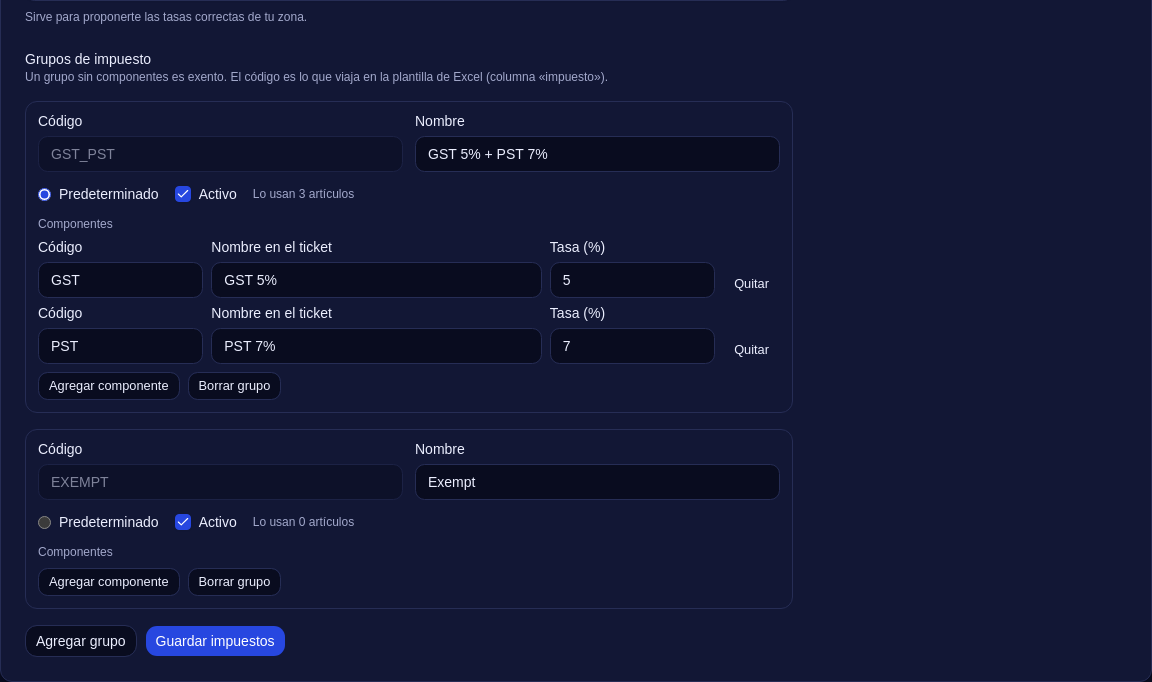
Test: «Impuestos» en Mi perfil (F4-TAX-14) › marcar otro grupo como predeterminado y guardar manda un solo isDefault
This screenshot has width=1152, height=682.
(page scrolled)
Expected: the number of elements with test id "tax-group" is 2, [25, 101, 793, 413]; [25, 429, 793, 609]
Click the radio button labelled "Predeterminado" in the row of "Lo usan 0 artículos": x=44, y=522 [38, 516, 51, 528]
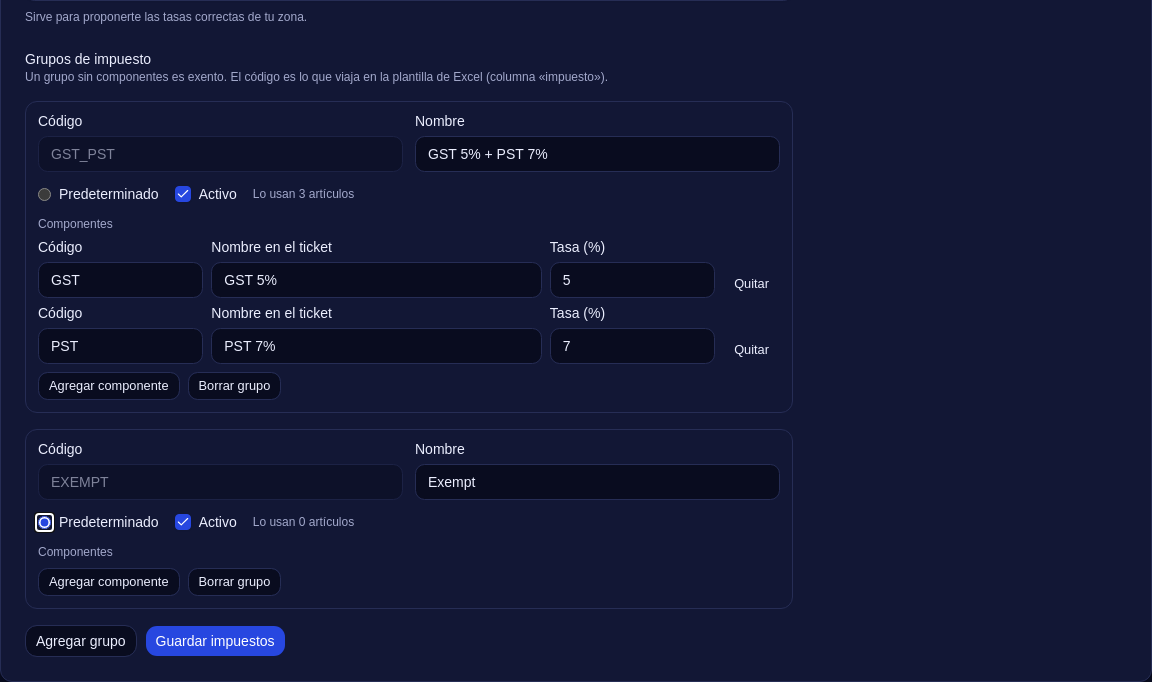
Click the button "Guardar impuestos": x=215, y=641 [144, 625, 286, 657]
(page scrolled)
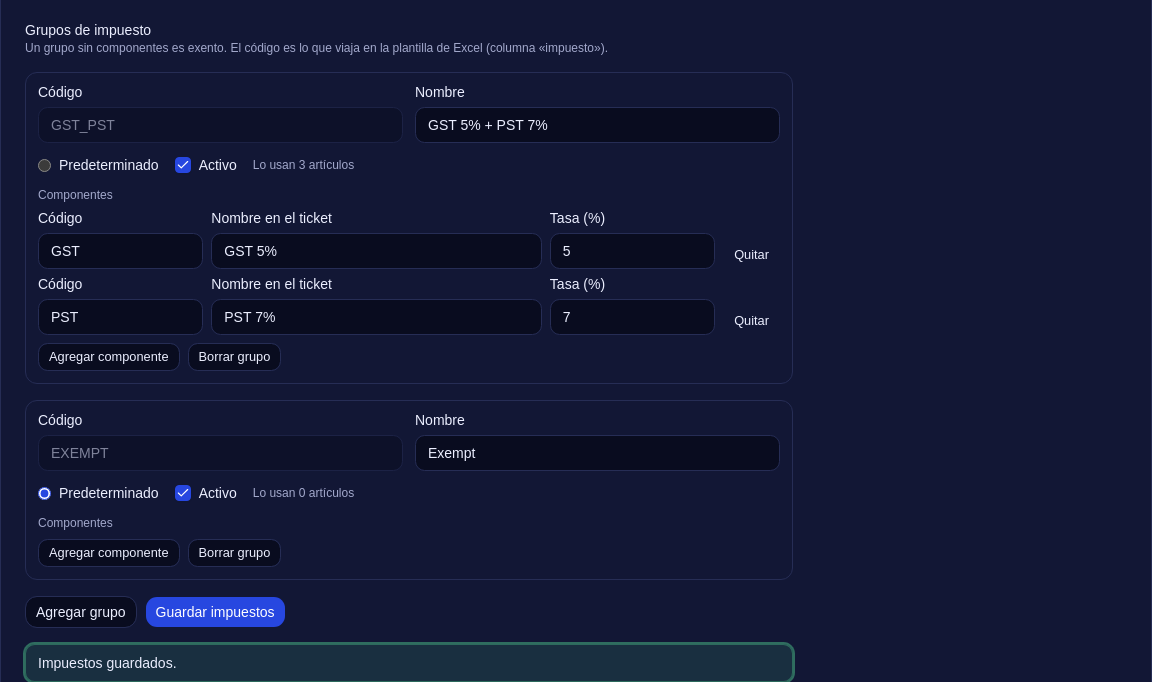
Result: the text "Impuestos guardados." is shown at [25, 644, 793, 681]
